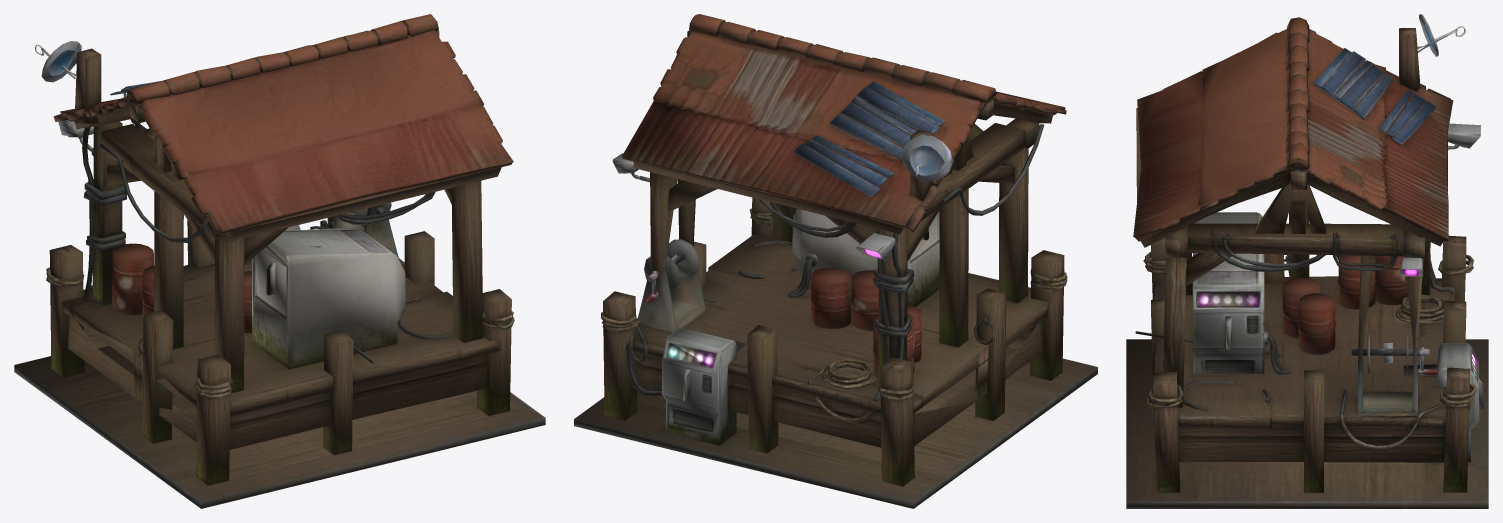
File: longtail_dock.glb
3 views of the same model, side by side, from view 1: azimuth 30°, elevation 25°; view 2: azimuth 150°, elevation 25°; view 3: azimuth 270°, elevation 25° (orthographic). The views are drawn at different scales.
Parts seen in each view (by area): view 1: Body; view 2: Body; view 3: Body, Glow.
Part boxes in pixels (x1,y1,x2,y2): Body: [14, 14, 545, 508]; Body: [574, 14, 1097, 508]; Body: [1126, 14, 1488, 508]; Glow: [1197, 269, 1476, 367].
Size of the model in its own units: 10 by 9.61 by 9.26.
Materials: 2 (2 with a texture image).
